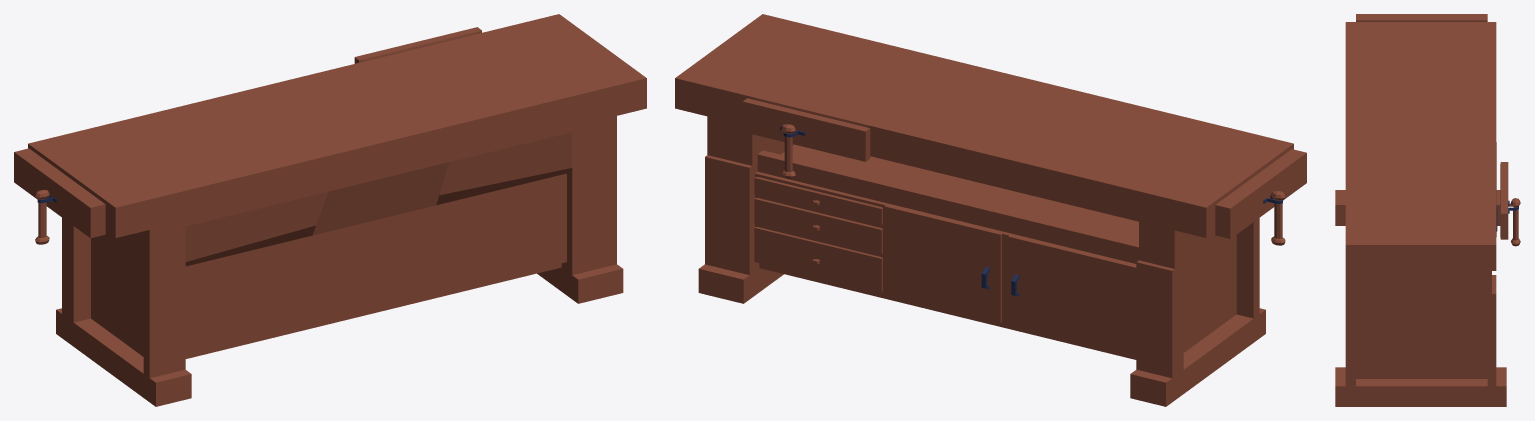
File: Workbench.glb
3 views of the same model, side by side, from view 1: azimuth 30°, elevation 25°; view 2: azimuth 150°, elevation 25°; view 3: azimuth 270°, elevation 25° (orthographic). The views are drawn at different scales.
Parts seen in each view (by area): view 1: Workbench, Side vice, Front vice, Handel side; view 2: Workbench, Front vice, Side vice, Handel front, Handel side; view 3: Workbench, Side vice, Front vice, Handel front.
Boxes of the visible parts, box(x1,y1,x2,y2) form: Workbench: box(28, 14, 646, 406); Side vice: box(14, 148, 105, 238); Front vice: box(354, 27, 481, 63); Handel side: box(35, 189, 57, 244); Workbench: box(675, 14, 1293, 406); Front vice: box(742, 98, 870, 161); Side vice: box(1215, 149, 1306, 238); Handel front: box(780, 124, 805, 178); Handel side: box(1263, 190, 1285, 245); Workbench: box(1335, 22, 1506, 406); Side vice: box(1356, 14, 1487, 21); Front vice: box(1500, 162, 1508, 239); Handel front: box(1508, 198, 1520, 246).
Bounding box in the file's own units: 28.45 × 9.74 × 9.38.
